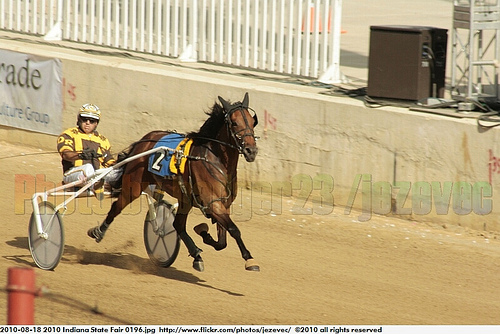horse: (87, 92, 260, 273)
